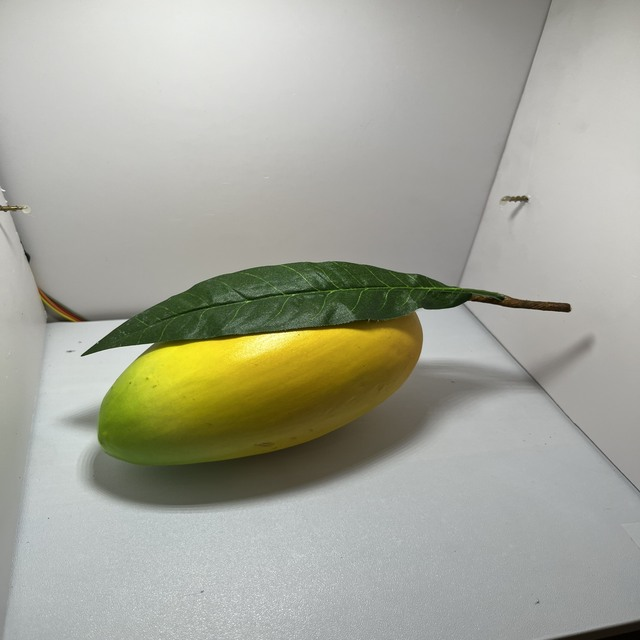Xoai: (89, 257, 430, 478)
